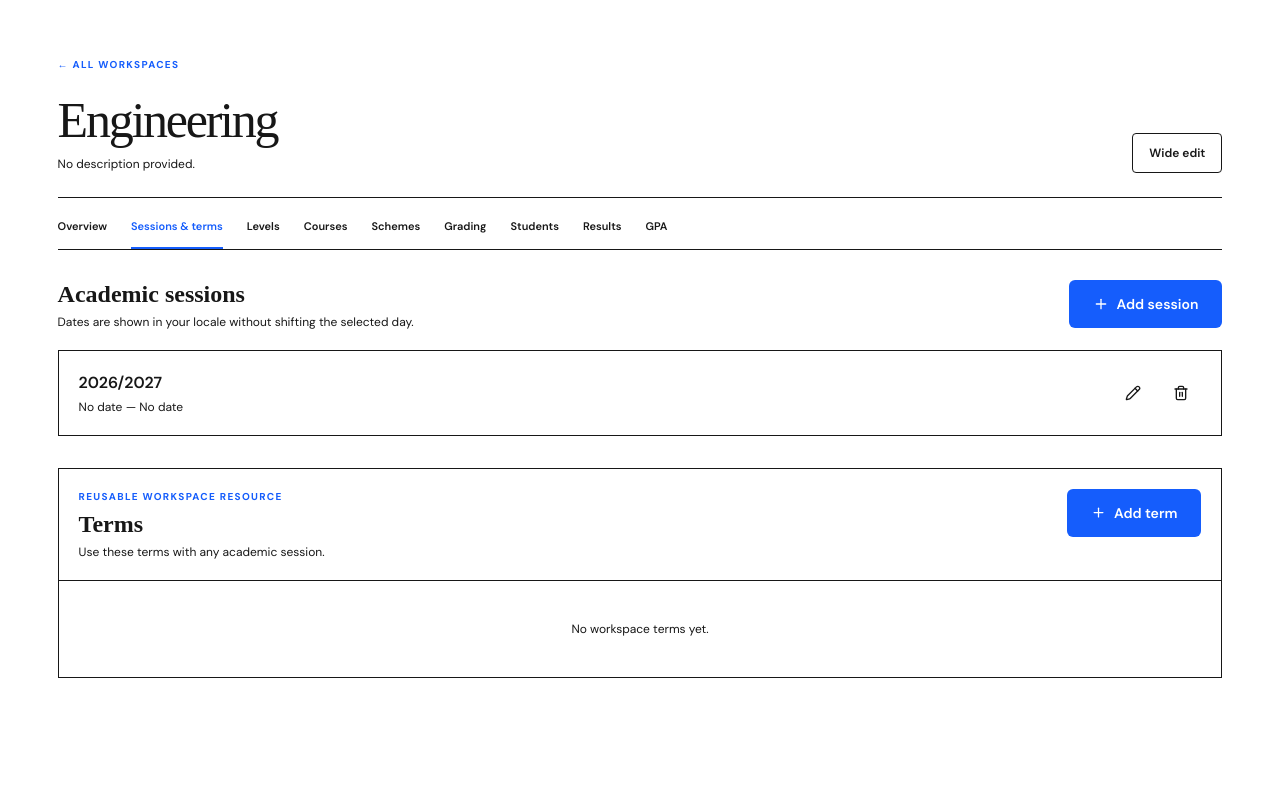
workspace terms management › shows an empty state and preserves values through duplicate-name errors
Expected: the text "No workspace terms yet." is shown, [571, 621, 709, 637]
Click the button "Add term" at (1134, 513), box [1067, 489, 1201, 537]
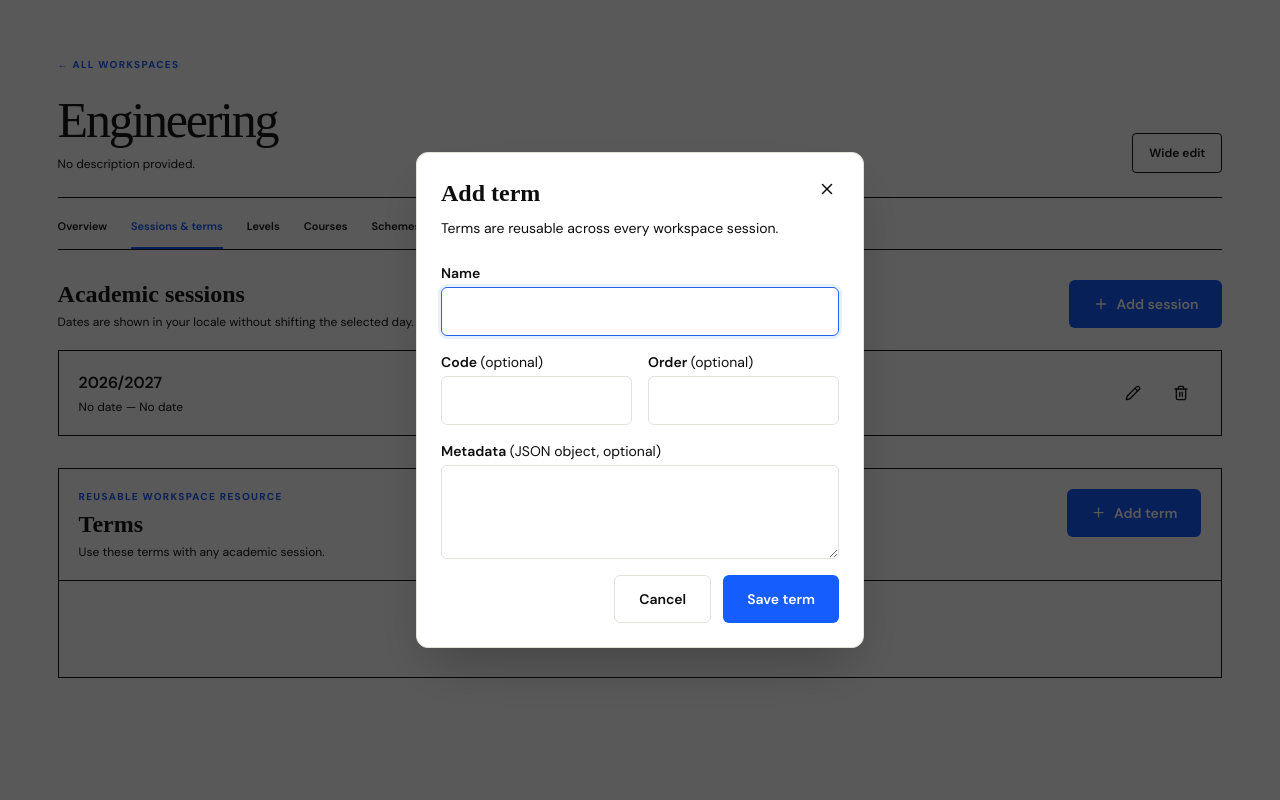
Type "First Semester" into the field labelled "Name" at (640, 312), box [441, 287, 839, 336]
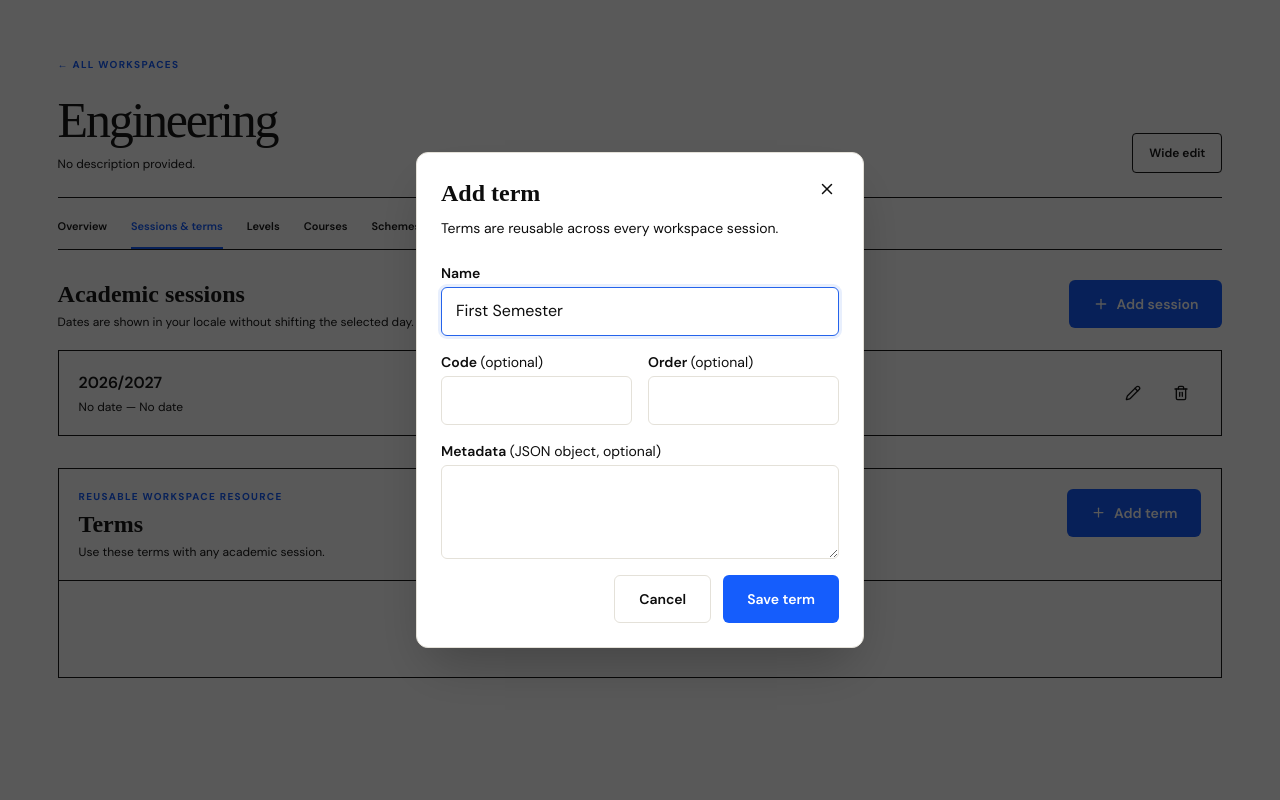
Click the button "Save term" at (781, 600), box [723, 576, 839, 624]
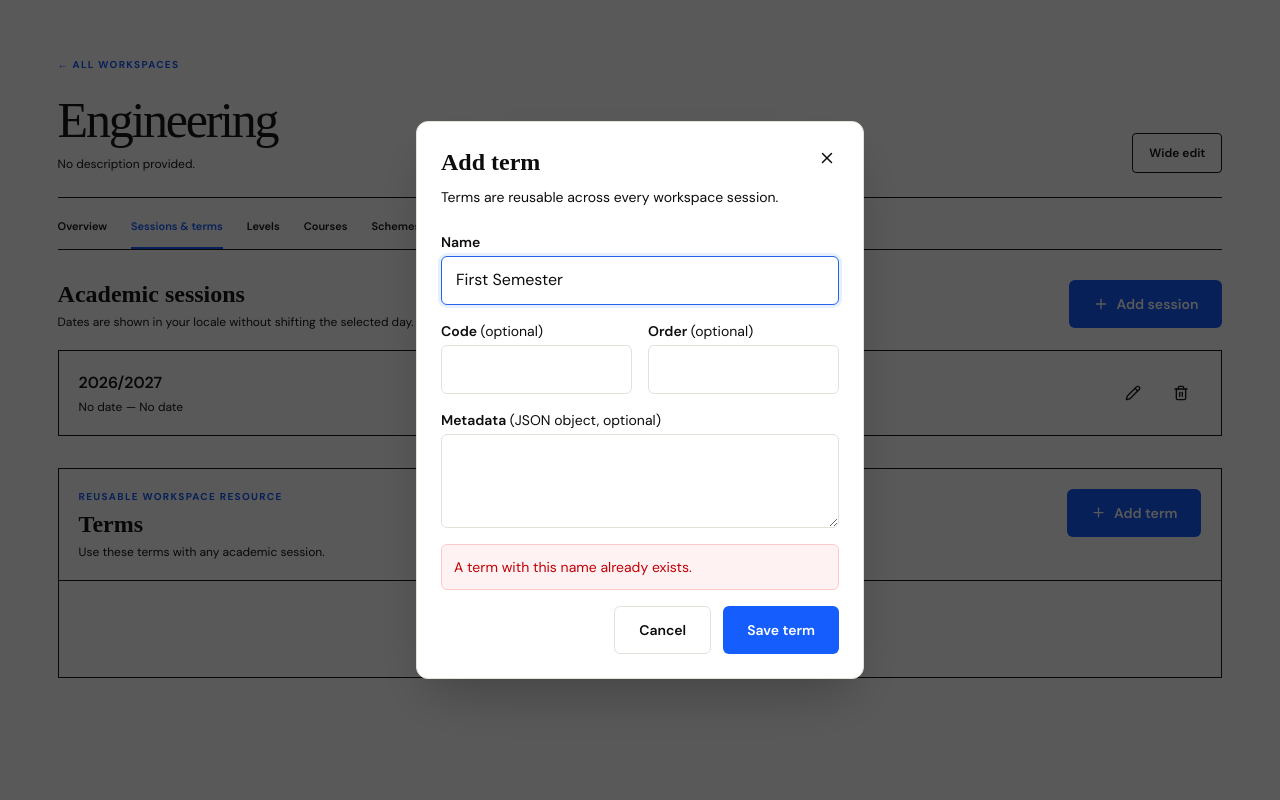
Now the text "A term with this name already exists." is shown, box [441, 544, 839, 590]
